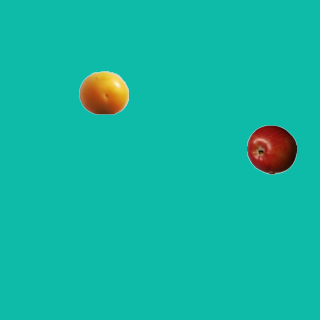Apple Braeburn: (246, 124, 296, 174)
Cherry Wax Yellow: (78, 67, 128, 117)
